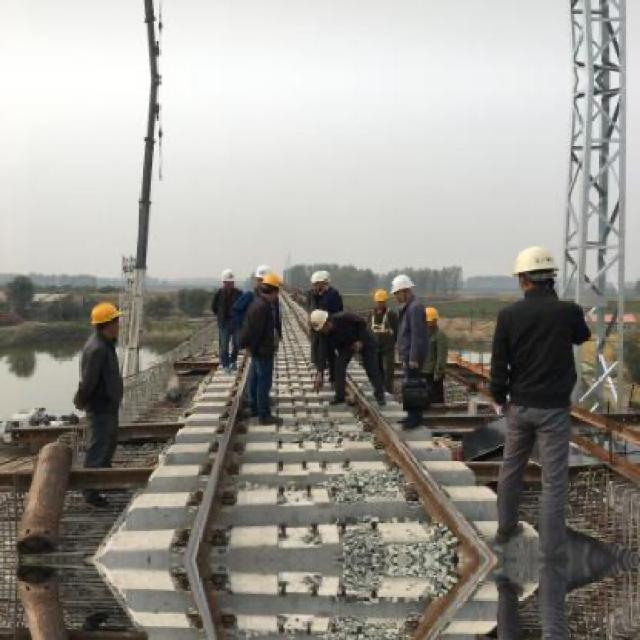helmet: (511, 242, 563, 298), (88, 299, 124, 343), (391, 271, 414, 303), (217, 263, 241, 292), (263, 274, 288, 300), (308, 270, 330, 296), (252, 262, 274, 288), (369, 286, 391, 311), (311, 306, 332, 331), (424, 304, 442, 328)
